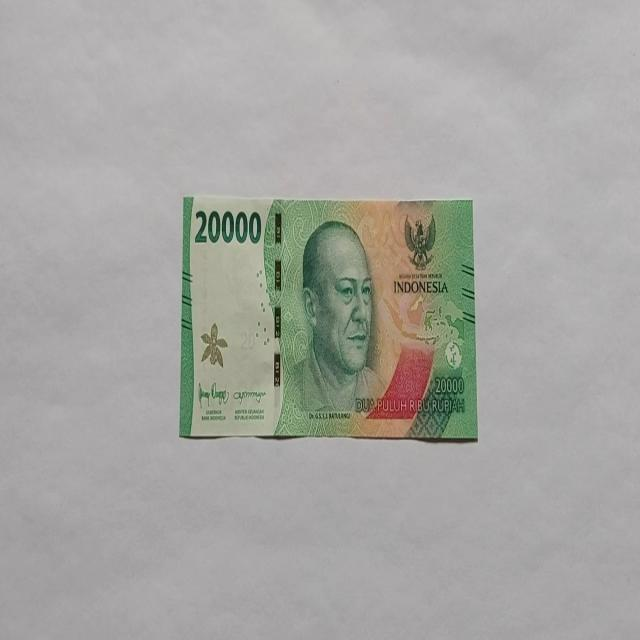dua puluh ribu rupiah: (178, 193, 478, 442), (274, 218, 388, 436)
